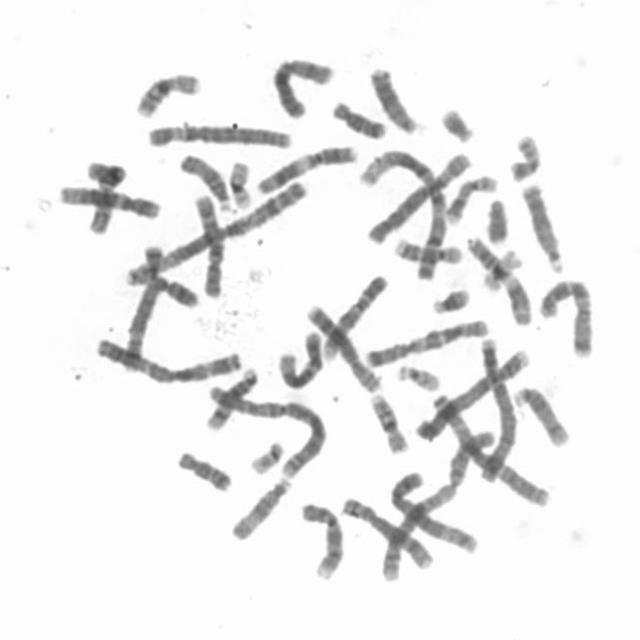A1: (121, 174, 312, 286), (357, 145, 450, 282)
A2: (379, 422, 500, 584), (200, 378, 330, 478)
A3: (428, 387, 554, 508), (91, 332, 246, 385)
B4: (409, 343, 533, 443), (470, 334, 520, 485)
B5: (115, 270, 202, 376), (384, 464, 481, 555)
C10: (190, 189, 227, 298), (80, 156, 129, 237)
C11: (461, 230, 535, 327), (250, 138, 362, 196)
C12: (54, 179, 162, 221), (273, 327, 324, 391)
C6: (362, 148, 473, 246), (142, 117, 297, 151)
C7: (359, 313, 491, 369), (535, 272, 597, 359)
C8: (301, 298, 385, 395), (336, 490, 436, 570)
C9: (317, 269, 391, 362), (296, 496, 347, 582)
D13: (517, 177, 568, 274), (365, 62, 423, 135)
D14: (509, 381, 573, 448), (202, 362, 263, 432)
D15: (225, 472, 294, 543), (177, 148, 235, 212)
E16: (130, 67, 203, 119), (366, 389, 411, 455)
E17: (440, 169, 500, 226), (389, 232, 464, 266)
E18: (173, 445, 235, 494), (326, 95, 390, 140)
F19: (478, 244, 525, 292), (223, 155, 256, 211)
F20: (504, 128, 545, 183), (121, 240, 167, 287)
G21: (436, 101, 478, 145), (427, 282, 473, 316)
G22: (392, 358, 443, 392), (245, 435, 287, 476)
X: (266, 52, 336, 120)
Y: (481, 193, 512, 245)
